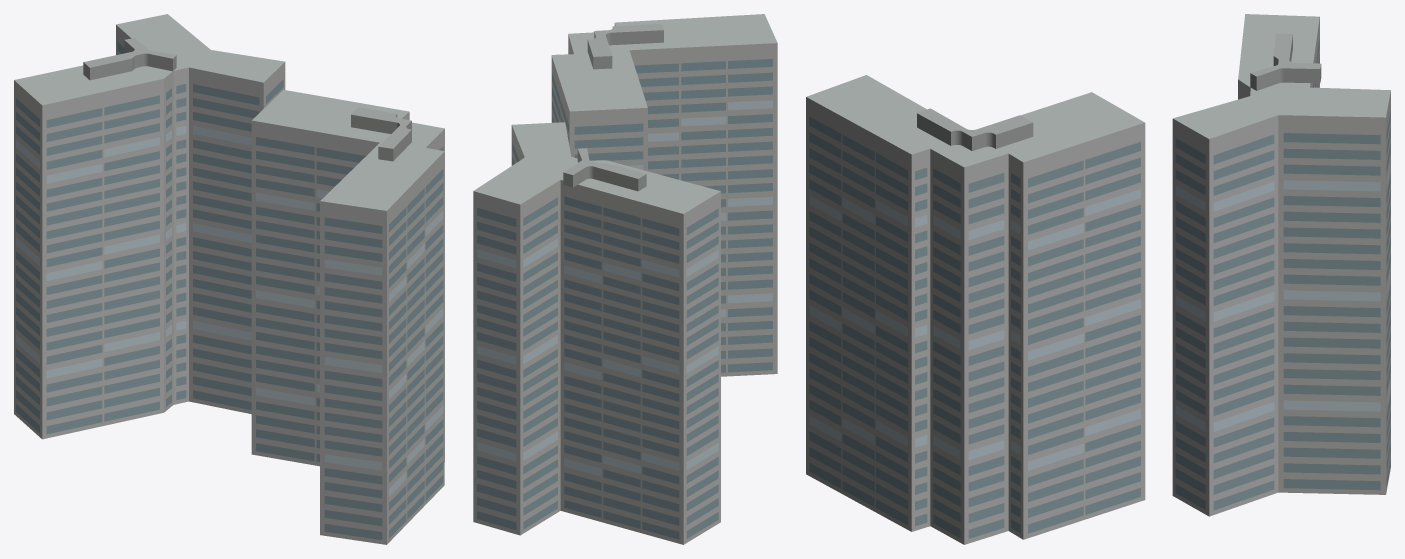
Rendered from apt-a13113002.glb.
3 renders of one model, left to right at view 1: azimuth 30°, elevation 25°; view 2: azimuth 150°, elevation 25°; view 3: azimuth 270°, elevation 25°, orthographic. The views are drawn at different scales.
Parts seen in each view (by area): view 1: apt-a13113002; view 2: apt-a13113002; view 3: apt-a13113002.
Boxes of the visible parts, left/top/right/bottom form: apt-a13113002: left=14, top=14, right=444, bottom=544; apt-a13113002: left=473, top=14, right=777, bottom=544; apt-a13113002: left=806, top=14, right=1390, bottom=544.
Size of the model in its own units: 55.48 by 66 by 89.31.
